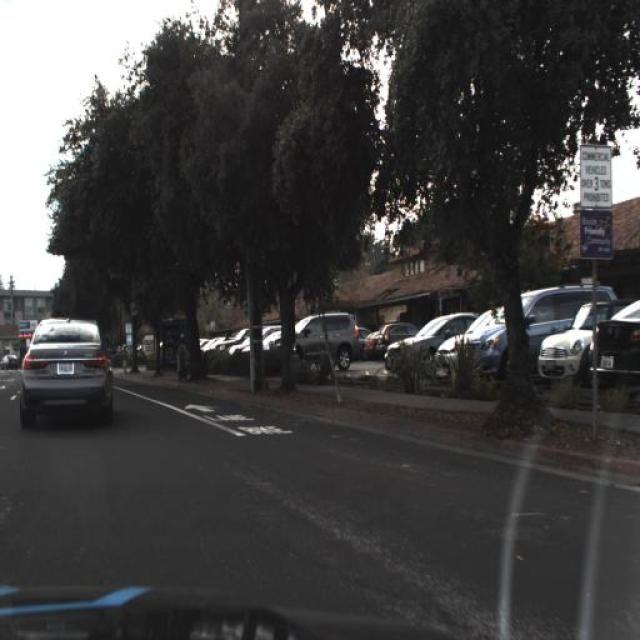car: (472, 284, 618, 388), (18, 304, 117, 440), (540, 298, 640, 387), (385, 308, 476, 378), (270, 310, 361, 370), (437, 302, 491, 371), (376, 312, 420, 358), (241, 320, 279, 368), (207, 319, 235, 366), (230, 324, 254, 368), (4, 344, 27, 380)
